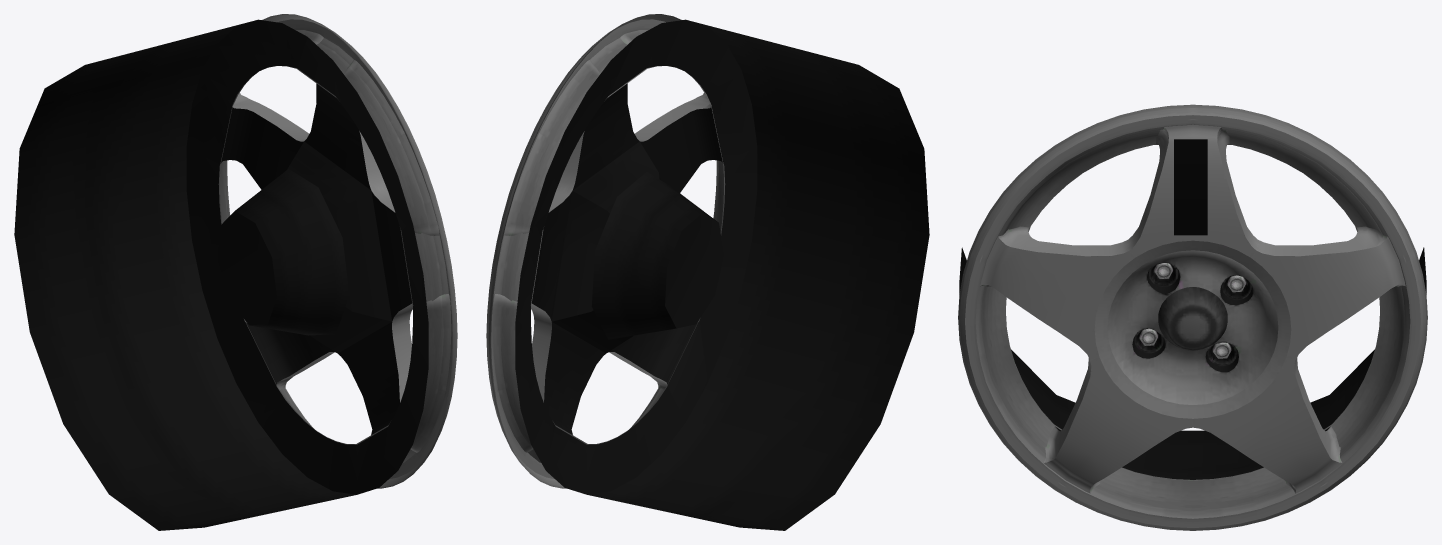
File: wheel32.fbx
3 views of the same model, side by side, from view 1: azimuth 30°, elevation 25°; view 2: azimuth 150°, elevation 25°; view 3: azimuth 270°, elevation 25° (orthographic). The views are drawn at different scales.
Visible parts, largest first — view 1: com_m05_wheel_wheel_inner_rim_, com_m05_wheel_wheel_rim_, wheel_rim; view 2: com_m05_wheel_wheel_inner_rim_, com_m05_wheel_wheel_rim_, wheel_rim; view 3: com_m05_wheel_wheel_rim_, wheel_rim, com_m05_wheel_wheel_inner_rim_, com_m05_wheel_wheel_wheel_emblem_, com_m05_wheel_wheel_chrome_rim_.
Boxes of the visible parts, x1,y1,x2,y2 form: com_m05_wheel_wheel_inner_rim_: (14, 19, 428, 530); com_m05_wheel_wheel_rim_: (232, 14, 453, 488); wheel_rim: (218, 14, 457, 486); com_m05_wheel_wheel_inner_rim_: (515, 19, 929, 530); com_m05_wheel_wheel_rim_: (490, 14, 711, 488); wheel_rim: (486, 14, 725, 485); com_m05_wheel_wheel_rim_: (958, 104, 1427, 493); wheel_rim: (958, 105, 1427, 530); com_m05_wheel_wheel_inner_rim_: (959, 247, 1426, 479); com_m05_wheel_wheel_wheel_emblem_: (1174, 139, 1207, 235); com_m05_wheel_wheel_chrome_rim_: (1139, 263, 1245, 358).
Bounding box in the file's own units: 0.2548 × 0.4795 × 0.4792.
1 material, 1 textured.
